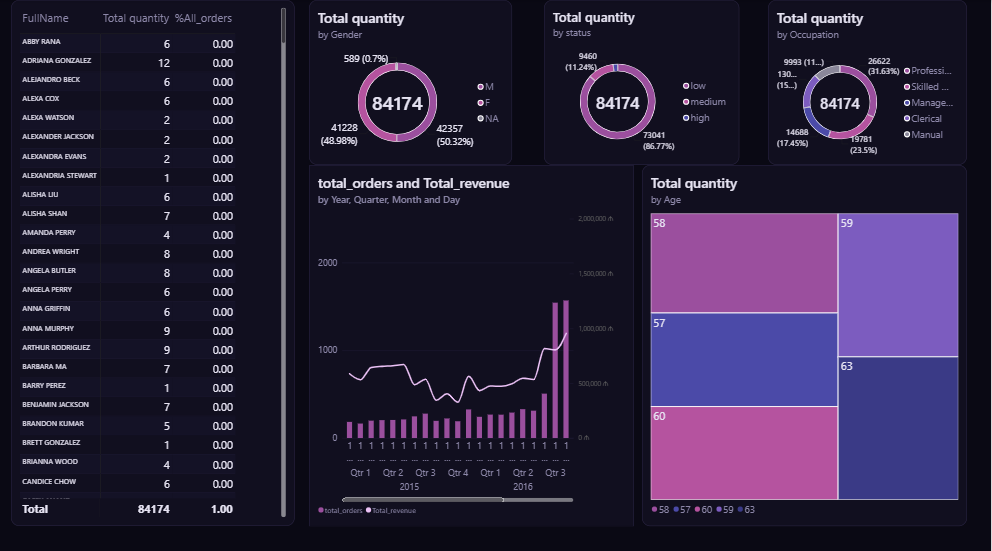

Layout of this report page (visuals, bound fields, positions):
{"tool":"powerbi","page":{"name":"customers","canvas":[1920,1080],"ordinal":2},"visuals":[{"type":"donutChart","fields":{"Category":["Customers.Gender"],"Y":["sales.Total quantity"]},"box":[599.5,0,393.3,318.9],"z":0},{"type":"donutChart","fields":{"Category":["Customers.status"],"Y":["sales.Total quantity"]},"box":[1054.5,0,378.4,318.9],"z":1000},{"type":"donutChart","fields":{"Category":["Customers.Occupation"],"Y":["sales.Total quantity"]},"box":[1488.2,0,384.8,318.9],"z":2000},{"type":"pivotTable","fields":{"Rows":["Customers.FullName"],"Values":["sales.Total quantity","sales.%All_orders"]},"box":[23.4,0,548.5,1018.3],"z":3000},{"type":"treemap","fields":{"Group":["Customers.Age"],"Values":["sales.Total quantity"]},"box":[1243.7,318.9,629.3,699.4],"z":4000},{"type":"lineStackedColumnComboChart","fields":{"Category":["Calendar.Start of Month.Variation.Date Hierarchy.Year","Calendar.Start of Month.Variation.Date Hierarchy.Quarter","Calendar.Start of Month.Variation.Date Hierarchy.Month","Calendar.Start of Month.Variation.Date Hierarchy.Day"],"Y":["sales.total_orders"],"Y2":["sales.Total_revenue"]},"box":[599.5,318.9,629.3,699.4],"z":5000}]}

Visuals, with their boxes in screenshot pixels (x1, y1, x2, y2), scaled from the page's 1920x1080 canvas onto the 992x551 screenshot:
donutChart - Customers.Gender x sales.Total quantity: {"x1": 310, "y1": 0, "x2": 513, "y2": 163}
donutChart - Customers.status x sales.Total quantity: {"x1": 545, "y1": 0, "x2": 740, "y2": 163}
donutChart - Customers.Occupation x sales.Total quantity: {"x1": 769, "y1": 0, "x2": 968, "y2": 163}
pivotTable - Customers.FullName x sales.Total quantity: {"x1": 12, "y1": 0, "x2": 295, "y2": 520}
treemap - Customers.Age x sales.Total quantity: {"x1": 643, "y1": 163, "x2": 968, "y2": 520}
lineStackedColumnComboChart - Calendar.Start of Month.Variation.Date Hierarchy.Year x Calendar.Start of Month.Variation.Date Hierarchy.Quarter: {"x1": 310, "y1": 163, "x2": 635, "y2": 520}
